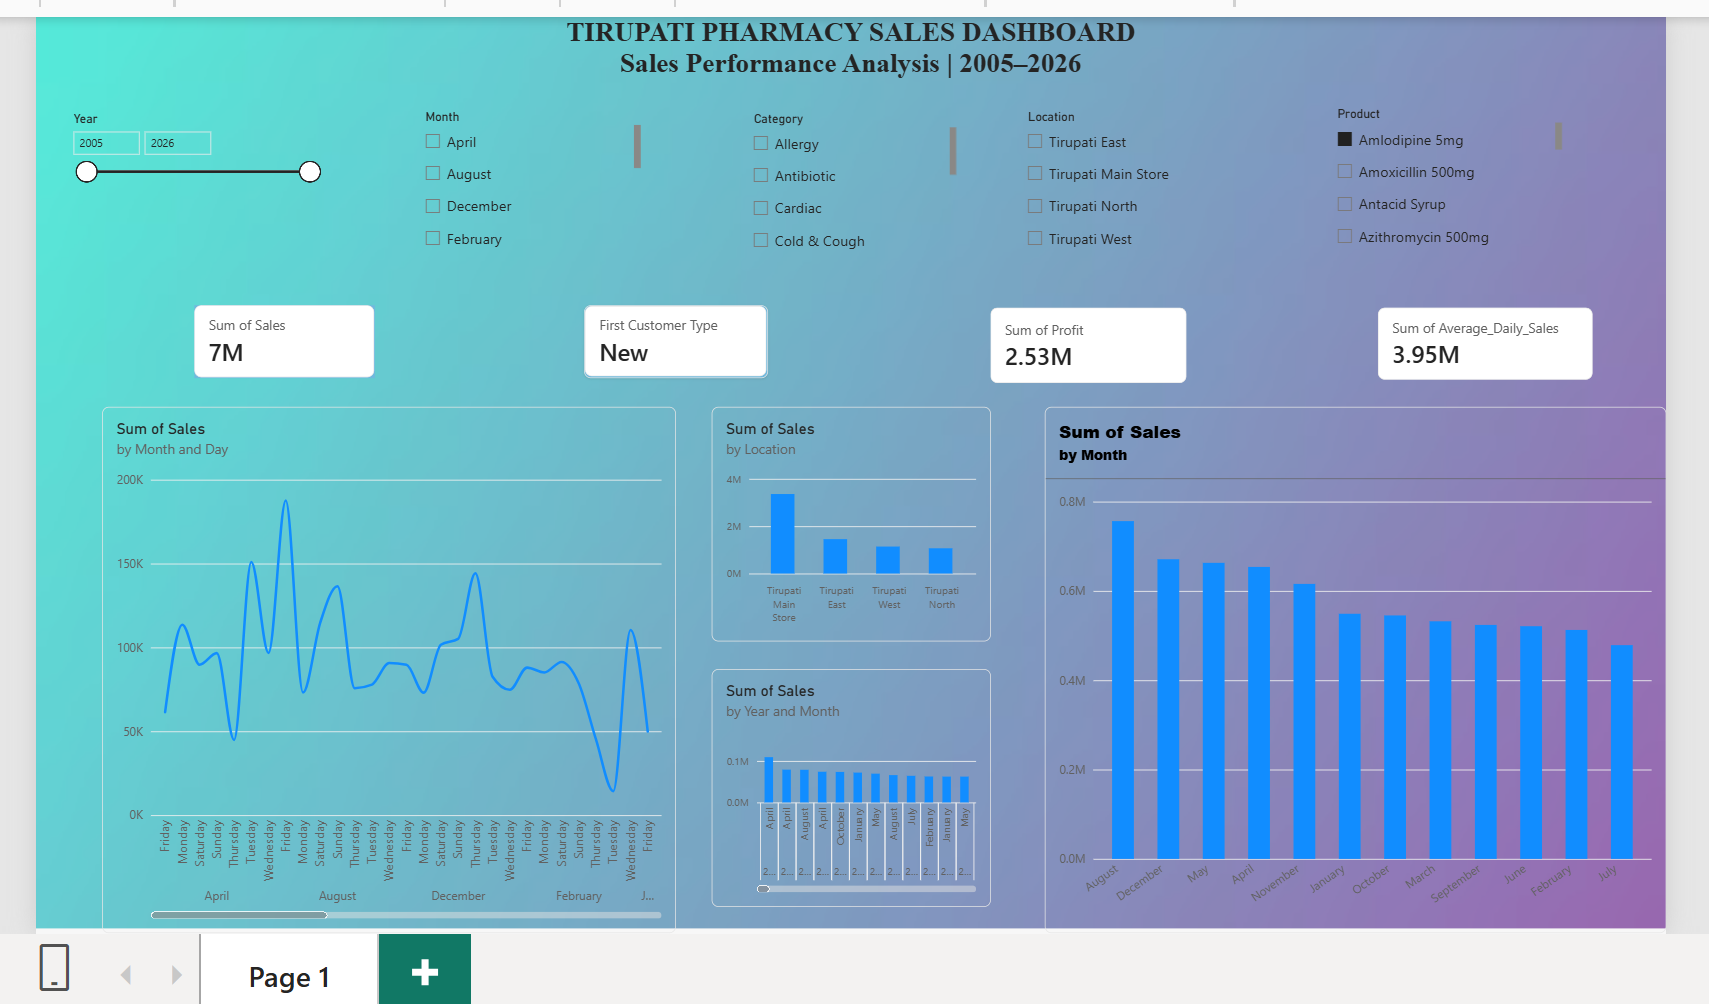

The page's visual inventory and layout, read from the dashboard file:
{"tool":"powerbi","page":{"name":"Page 1","canvas":[1920,1080],"ordinal":0},"visuals":[{"type":"textbox","box":[10,290,280,280],"z":0},{"type":"textbox","box":[10,0,280,280],"z":1000},{"type":"textbox","box":[0,0,1919.9,138.2],"z":2000},{"type":"slicer","fields":{"Values":["Monthly Summary.Year"]},"box":[37.4,112.1,302.5,145.7],"z":3000},{"type":"slicer","fields":{"Values":["Category Summary.Category"]},"box":[836.7,112.1,246.5,171.8],"z":4000},{"type":"slicer","fields":{"Values":["Location Summary.Location"]},"box":[1161.6,108.3,265.2,175.6],"z":5000},{"type":"slicer","fields":{"Values":["Product Summary.Product"]},"box":[1524,104.6,272.7,175.6],"z":6000},{"type":"slicer","fields":{"Values":["Monthly Summary.Month"]},"box":[452,108.3,261.5,171.8],"z":7000},{"type":"cardVisual","fields":{"Data":["Sum(Sales Data.Sales)"]},"box":[186.8,339.9,212.9,85.9],"z":8000},{"type":"cardVisual","fields":{"Data":["Min(Customer Summary.Customer Type)"]},"box":[646.2,339.9,216.6,85.9],"z":9000},{"type":"cardVisual","fields":{"Data":["Sum(Sales Data.Profit)"]},"box":[1124.3,343.6,231.6,89.6],"z":10000},{"type":"cardVisual","fields":{"Data":["Sum(Monthly Summary.Average_Daily_Sales)"]},"box":[1580,343.6,254,85.9],"z":11000},{"type":"lineChart","fields":{"Category":["Sales Data.Month","Sales Data.Day"],"Y":["Sum(Sales Data.Sales)"]},"box":[78.4,459.4,676.1,620],"z":12000},{"type":"columnChart","fields":{"Category":["Location Summary.Location"],"Y":["Sum(Sales Data.Sales)"]},"box":[795.6,459.4,328.7,276.4],"z":13000},{"type":"clusteredColumnChart","fields":{"Category":["Sales Data.Year","Sales Data.Month"],"Y":["Sum(Sales Data.Sales)"]},"box":[795.6,769.4,328.7,280.1],"z":14000},{"type":"clusteredColumnChart","fields":{"Y":["Sum(Sales Data.Sales)"],"Category":["Sales Data.Month"]},"box":[1187.8,459.4,732.1,620],"z":15000}]}

Visuals, with their boxes in screenshot pixels (x1, y1, x2, y2):
textbox: select_region(44, 259, 281, 496)
textbox: select_region(44, 13, 281, 250)
textbox: select_region(36, 13, 1661, 130)
slicer - Monthly Summary.Year: select_region(67, 108, 323, 232)
slicer - Category Summary.Category: select_region(744, 108, 953, 254)
slicer - Location Summary.Location: select_region(1019, 105, 1244, 254)
slicer - Product Summary.Product: select_region(1326, 102, 1557, 251)
slicer - Monthly Summary.Month: select_region(418, 105, 640, 251)
cardVisual - Sum(Sales Data.Sales): select_region(194, 301, 374, 374)
cardVisual - Min(Customer Summary.Customer Type): select_region(583, 301, 766, 374)
cardVisual - Sum(Sales Data.Profit): select_region(988, 304, 1184, 380)
cardVisual - Sum(Monthly Summary.Average_Daily_Sales): select_region(1373, 304, 1588, 377)
lineChart - Sales Data.Month x Sales Data.Day: select_region(102, 402, 674, 927)
columnChart - Location Summary.Location x Sum(Sales Data.Sales): select_region(709, 402, 988, 636)
clusteredColumnChart - Sales Data.Year x Sales Data.Month: select_region(709, 665, 988, 902)
clusteredColumnChart - Sum(Sales Data.Sales) x Sales Data.Month: select_region(1041, 402, 1661, 927)
